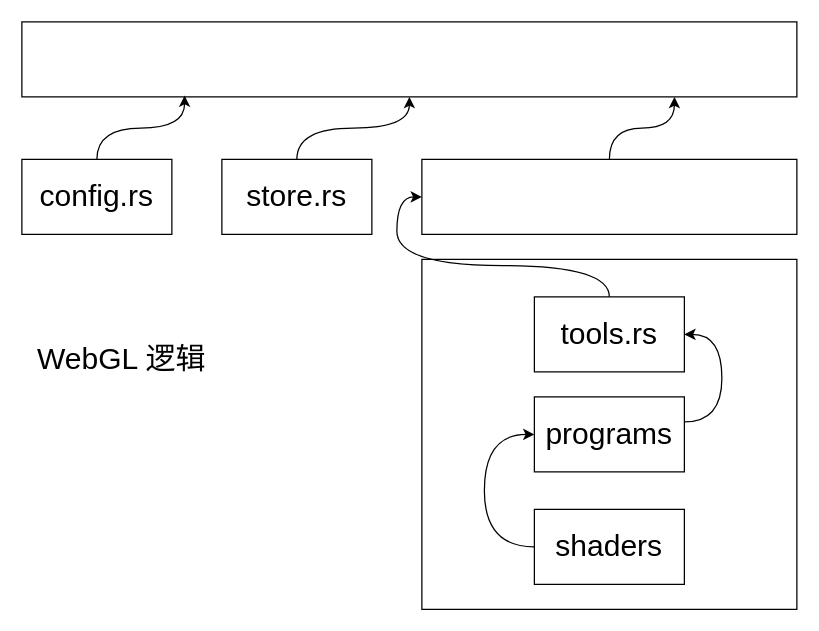
Some shapes in this 819 by 631 pixel diagram are drawn without their labels. The centre of each missing label's shape, as x and y in pixels:
"init.rs" belongs at (609,196).
"lib.rs" belongs at (409,59).
